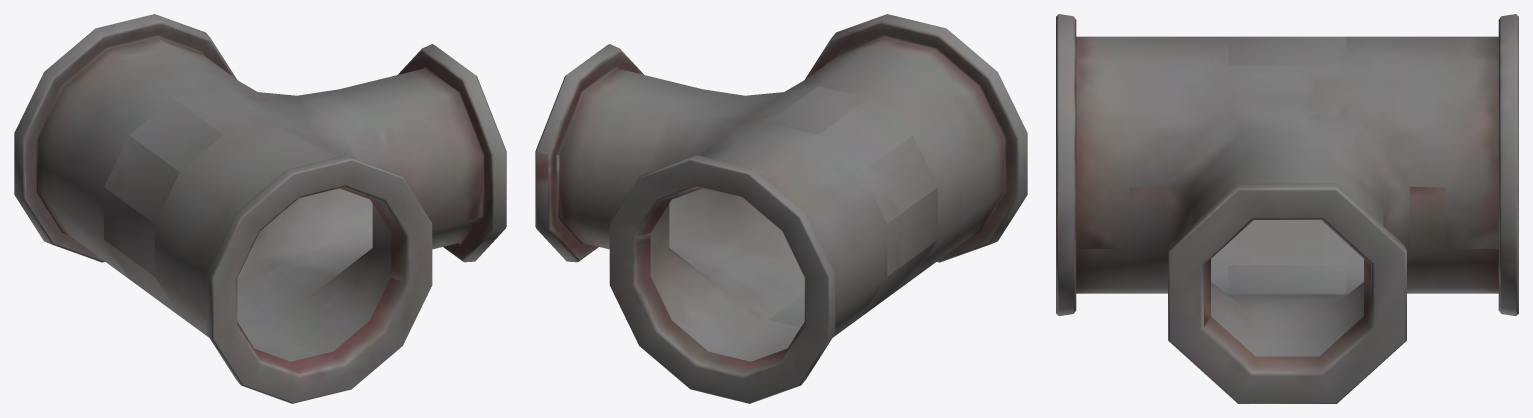
The model's file is Pipe_Fiiting.glb.
3 views of the same model, side by side, from view 1: azimuth 30°, elevation 25°; view 2: azimuth 150°, elevation 25°; view 3: azimuth 270°, elevation 25° (orthographic). The views are drawn at different scales.
Parts seen in each view (by area): view 1: Pipe_Fiiting; view 2: Pipe_Fiiting; view 3: Pipe_Fiiting.
Boxes of the visible parts, left/top/right/bottom form: Pipe_Fiiting: left=14, top=14, right=506, bottom=403; Pipe_Fiiting: left=535, top=14, right=1027, bottom=403; Pipe_Fiiting: left=1056, top=14, right=1518, bottom=403.
Bounding box in the file's own units: 0.4152 × 0.2675 × 0.4177.
Materials: 1 (1 with a texture image).
